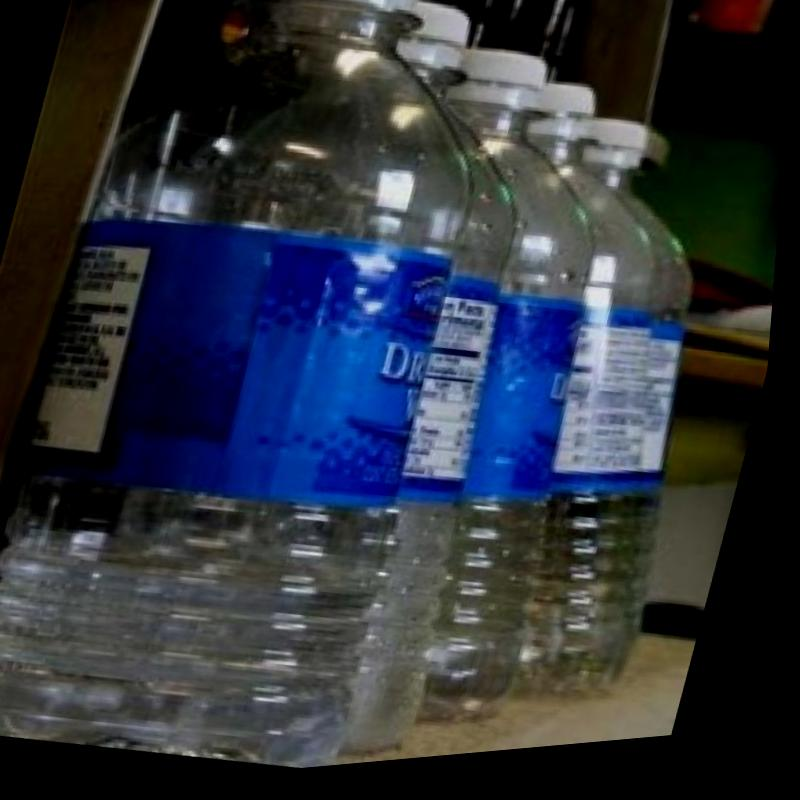botella: (0, 0, 550, 800), (204, 0, 605, 776), (292, 40, 677, 756), (383, 74, 771, 731), (451, 113, 775, 703)
